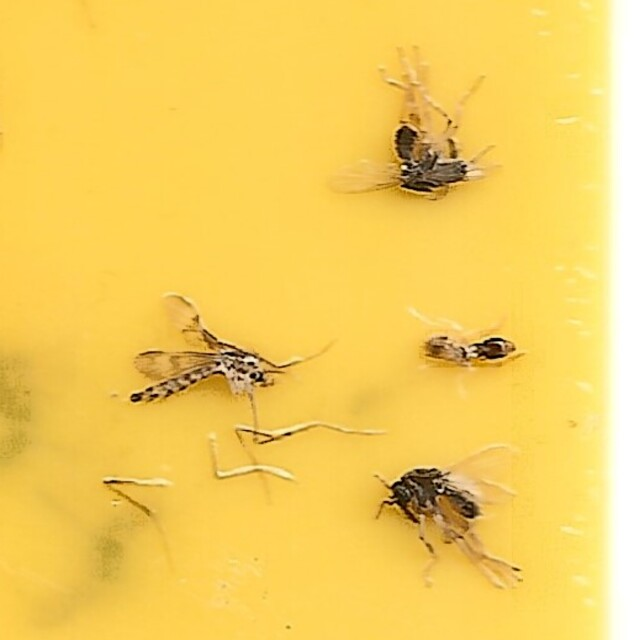Brachycera: (379, 456, 482, 531)
Isoptera: (417, 328, 517, 376)
Nematocera: (123, 292, 273, 409), (390, 109, 476, 197)
